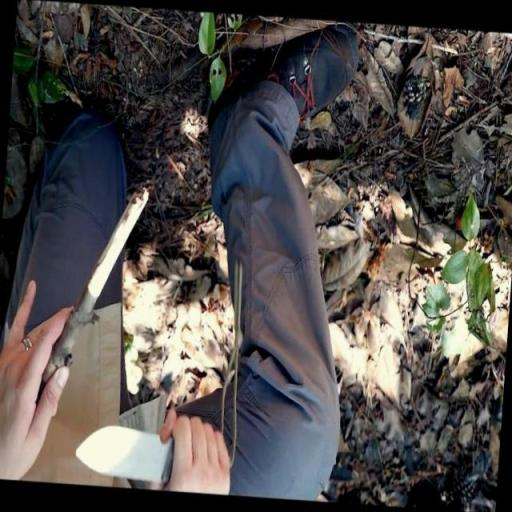knife: (72, 423, 174, 484)
